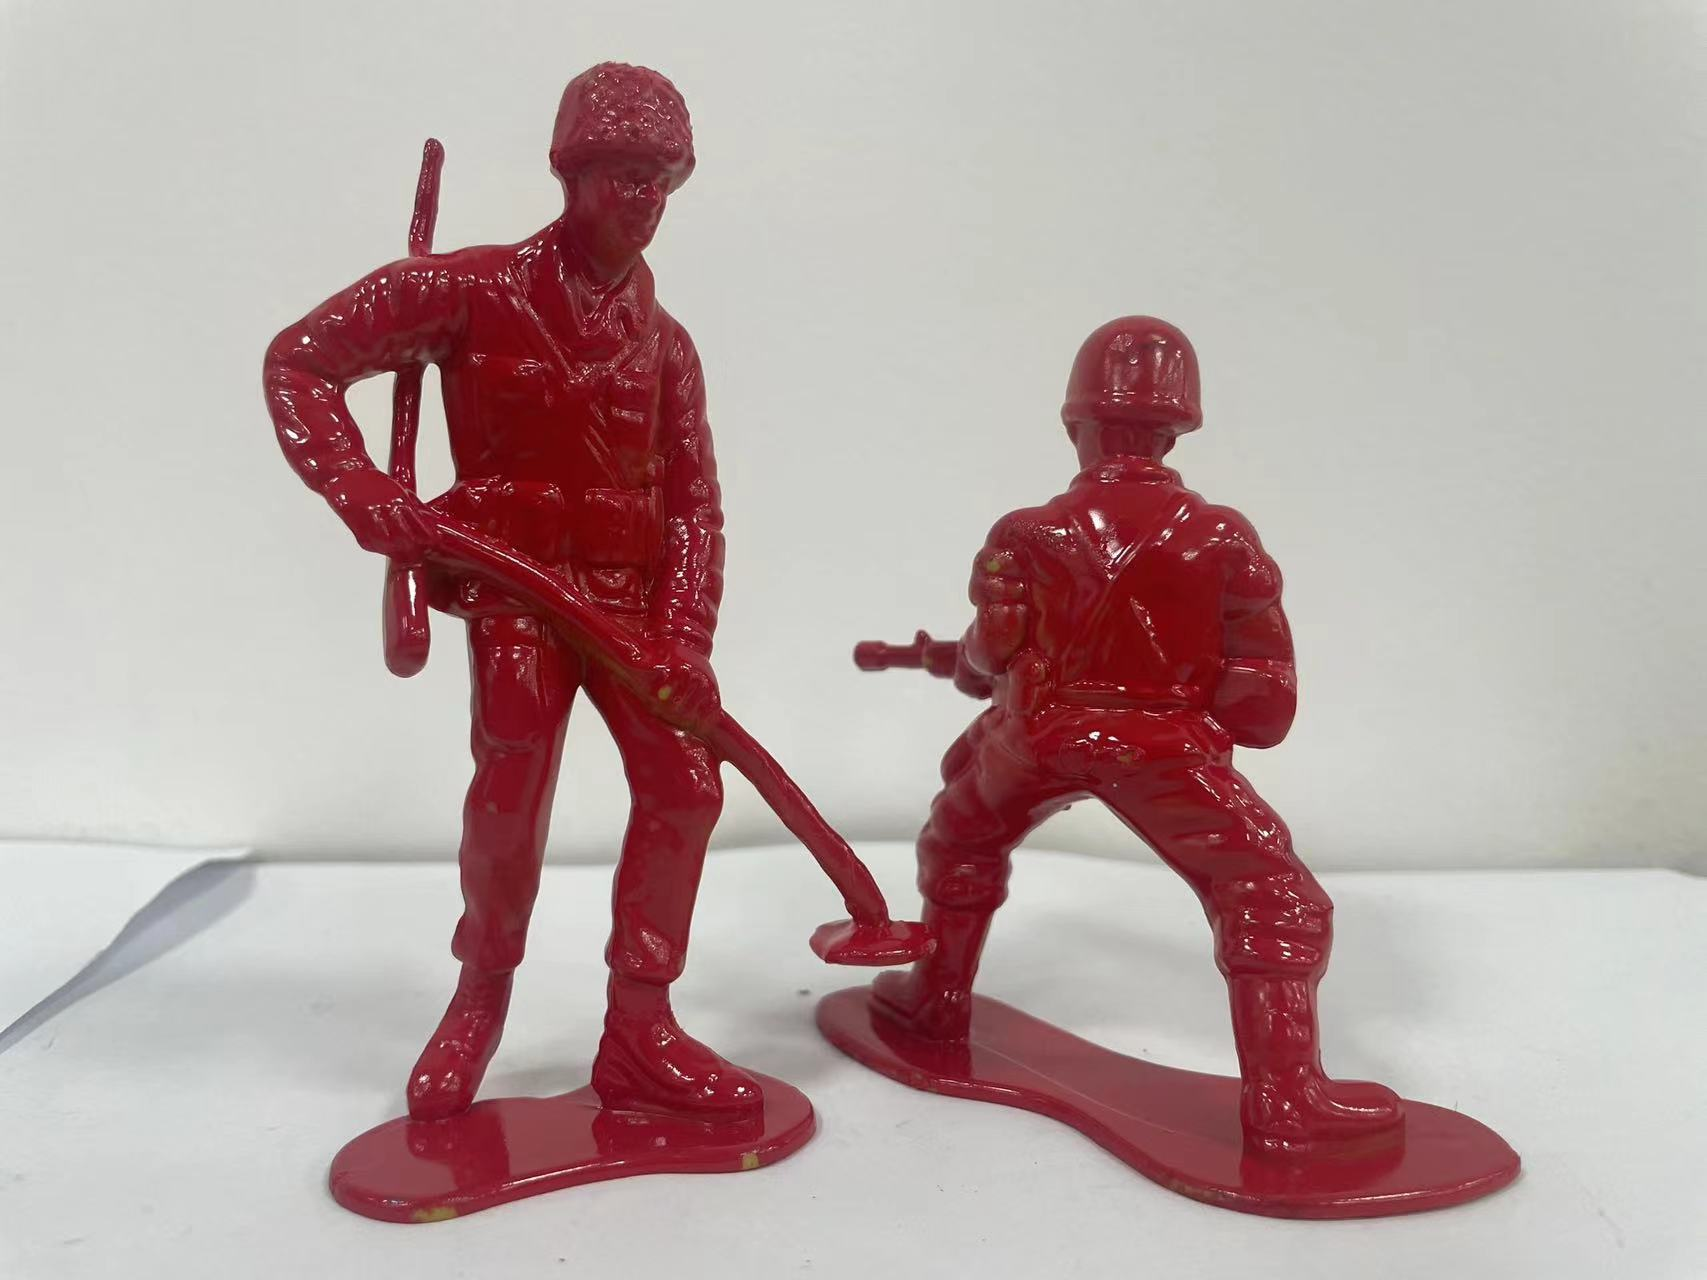red: (821, 290, 1546, 1258), (250, 38, 849, 1197)
